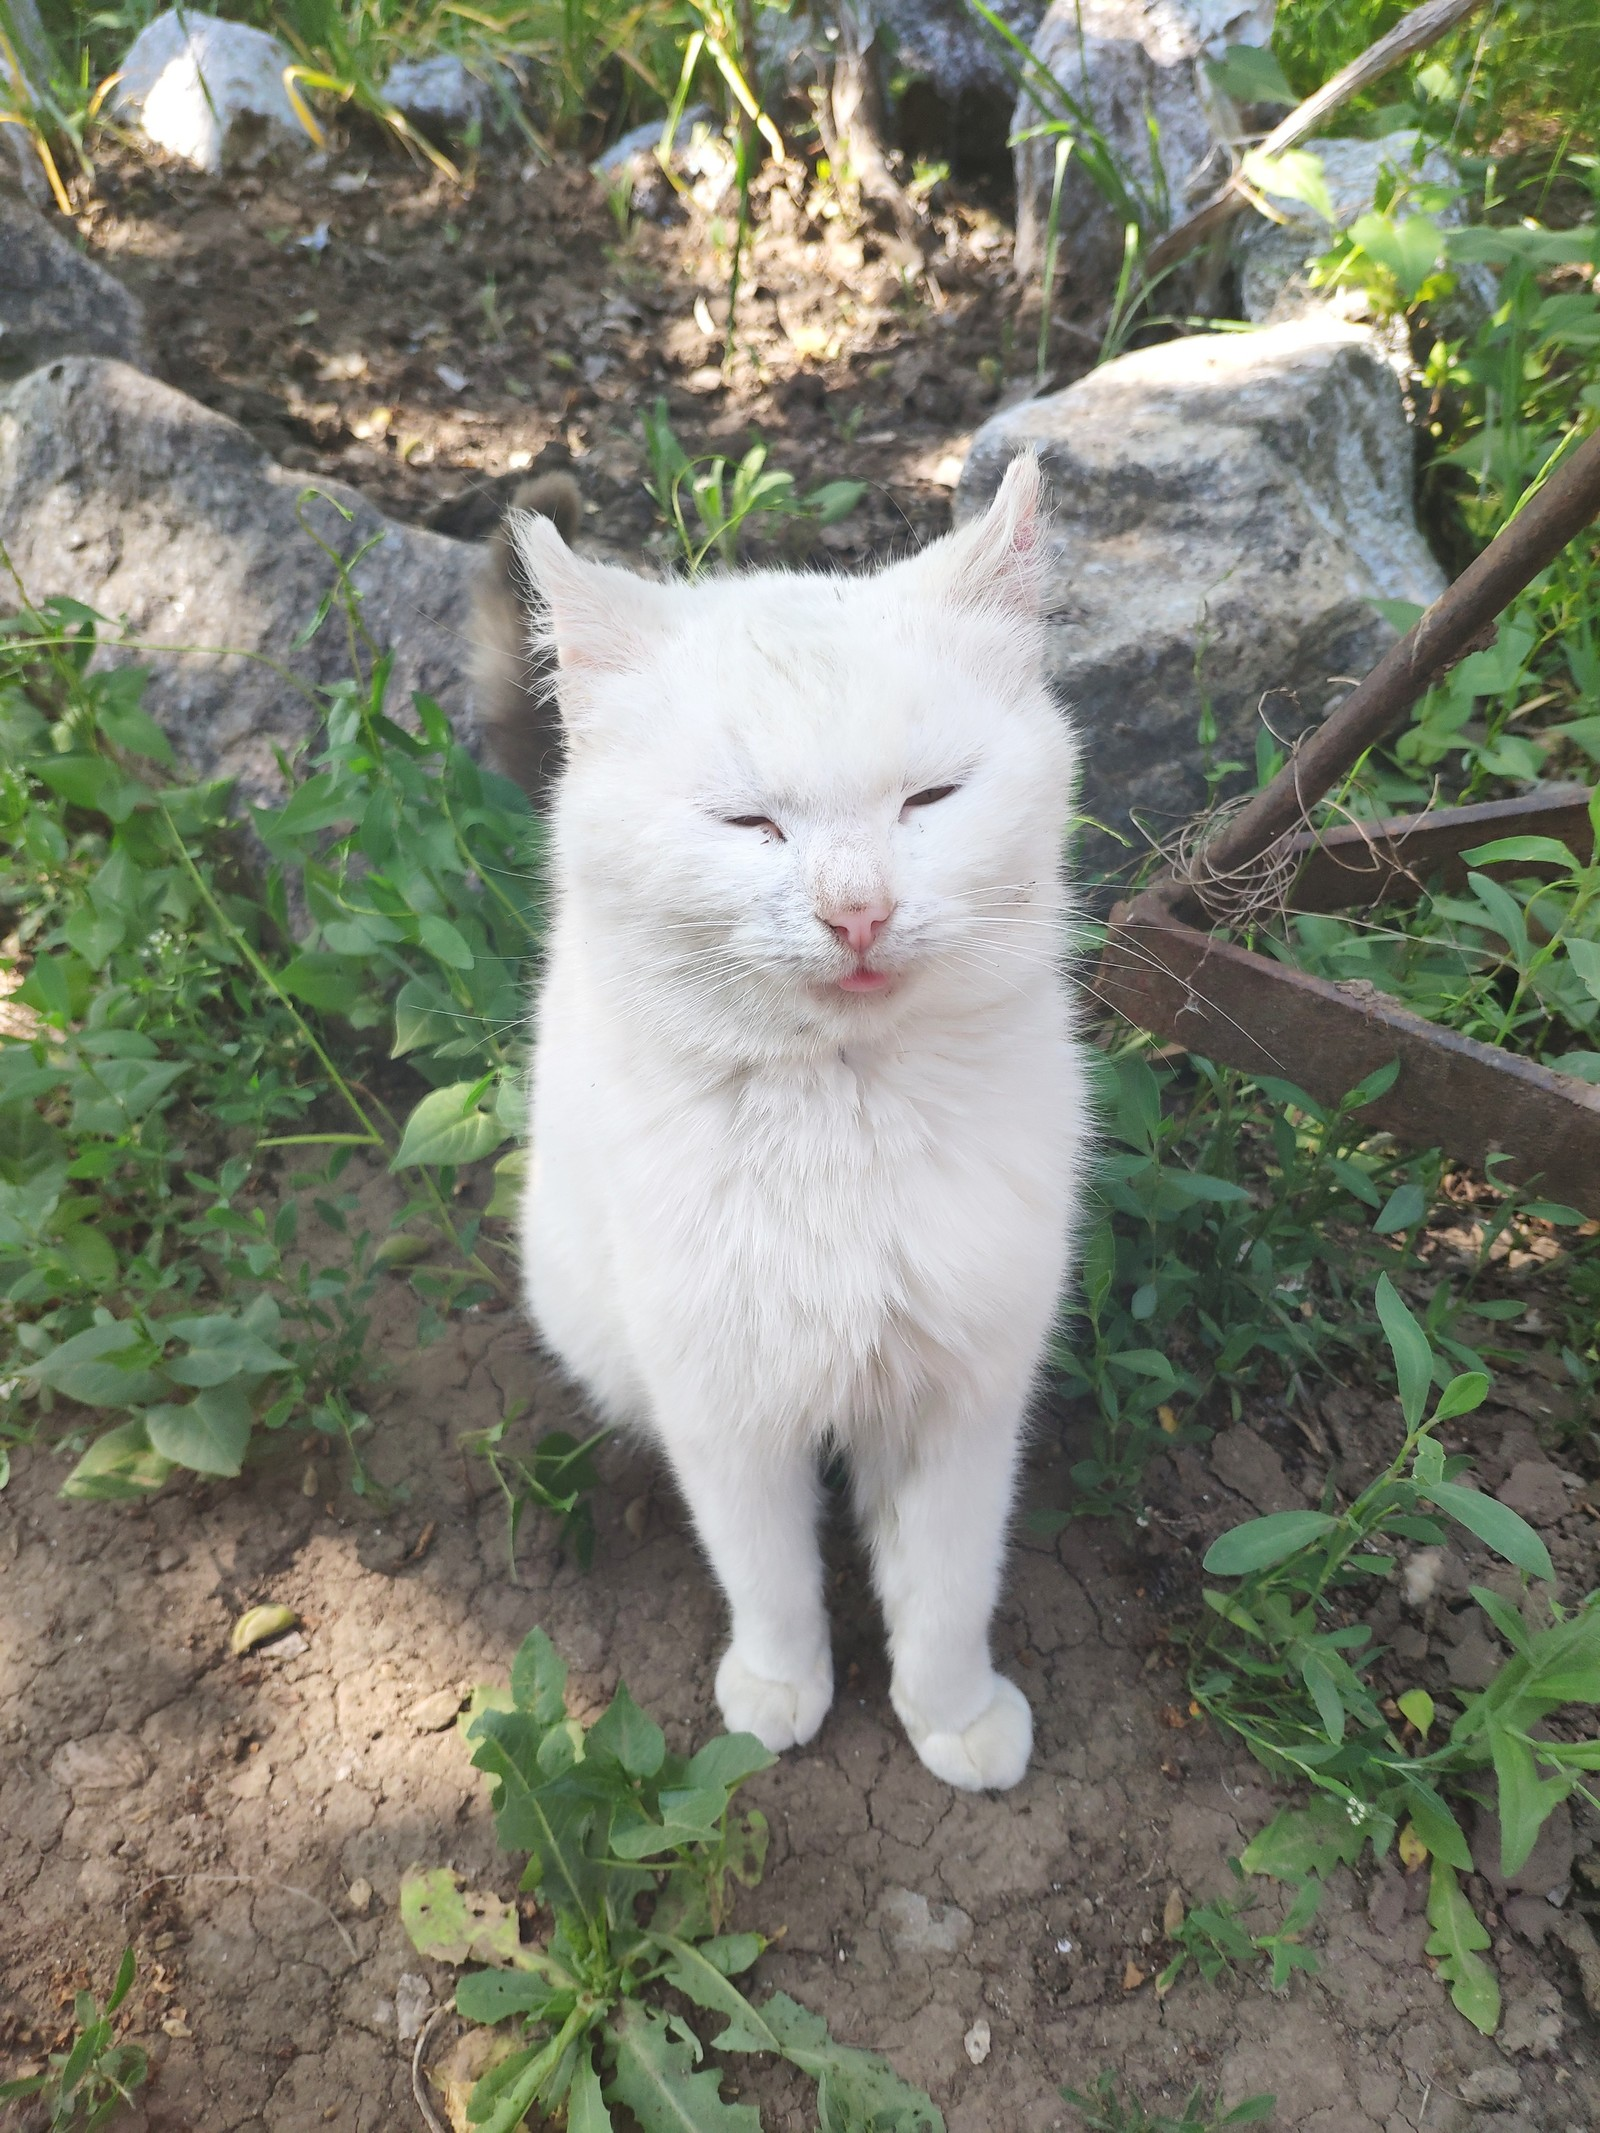cat: (454, 445, 1158, 1846)
